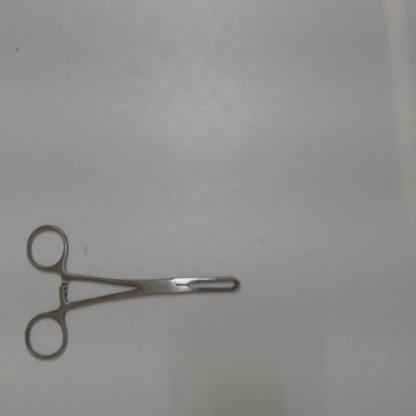Allis Tissue Forceps: (16, 214, 258, 369)
